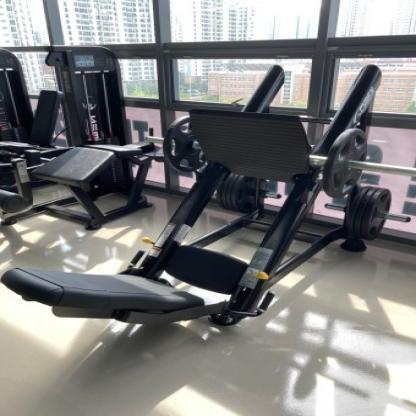leg press: (0, 60, 408, 347)
